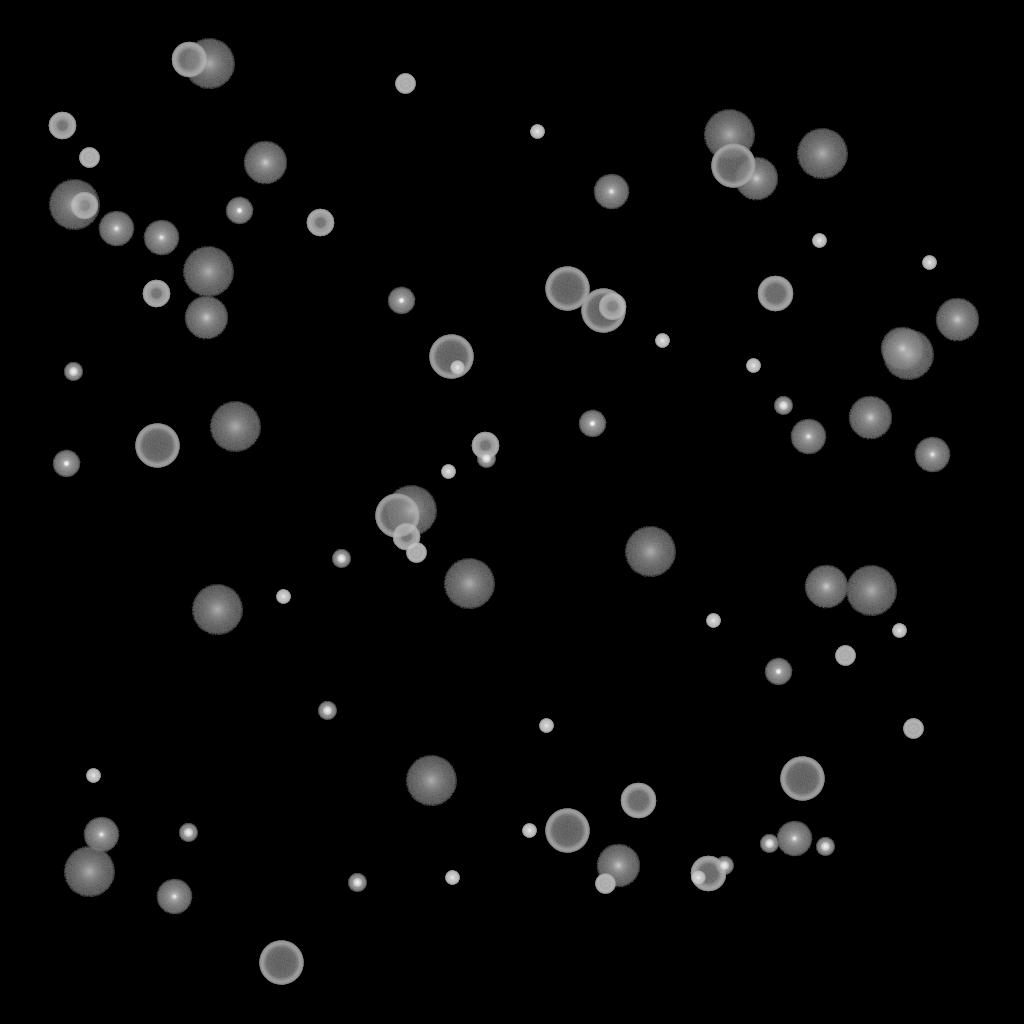depth:-10: (764, 658, 792, 686), (52, 450, 80, 478), (578, 410, 606, 438), (225, 197, 253, 225), (387, 287, 415, 315)
depth:-20: (774, 397, 792, 415), (760, 835, 778, 853), (179, 824, 197, 842), (64, 363, 82, 381), (816, 838, 834, 856), (715, 857, 733, 875), (318, 702, 336, 720), (348, 874, 366, 892), (332, 550, 350, 568), (477, 450, 495, 468)
depth:-30: (892, 624, 906, 638), (522, 824, 536, 838), (86, 769, 100, 783), (922, 256, 936, 270), (655, 334, 669, 348), (691, 871, 705, 885), (450, 361, 464, 375), (746, 359, 760, 373), (445, 871, 459, 885), (539, 719, 553, 733), (441, 465, 455, 479), (276, 590, 290, 604), (812, 234, 826, 248), (530, 125, 544, 139), (706, 614, 720, 628)
depth:-40: (79, 148, 99, 168), (395, 74, 415, 94), (903, 719, 923, 739), (406, 543, 426, 563), (595, 874, 615, 894), (835, 646, 855, 666)
depth:-50: (142, 280, 170, 308), (598, 293, 626, 321), (70, 192, 98, 220), (392, 523, 420, 551), (471, 432, 499, 460), (48, 112, 76, 140), (306, 209, 334, 237)
depth:-60: (690, 856, 726, 892), (757, 276, 793, 312), (171, 42, 207, 78), (620, 783, 656, 819)
depth:-70: (259, 941, 303, 985), (581, 289, 625, 333), (780, 757, 824, 801), (429, 335, 473, 379), (545, 267, 589, 311), (711, 144, 755, 188), (545, 809, 589, 853), (135, 424, 179, 468), (375, 494, 419, 538)
depth:0: (790, 419, 826, 455), (98, 211, 134, 247), (776, 821, 812, 857), (83, 817, 119, 853), (156, 879, 192, 915), (143, 220, 179, 256), (593, 174, 629, 210), (914, 437, 950, 473)
depth:10: (848, 396, 892, 440), (880, 327, 924, 371), (184, 296, 228, 340), (734, 157, 778, 201), (935, 298, 979, 342), (596, 844, 640, 888), (804, 565, 848, 609), (243, 141, 287, 185)
depth:20: (796, 129, 848, 179), (882, 330, 934, 380), (405, 756, 457, 806), (48, 180, 100, 230), (182, 247, 234, 297), (183, 39, 235, 89), (443, 559, 495, 609), (624, 527, 676, 577), (845, 566, 897, 616), (191, 585, 243, 635), (703, 110, 755, 160), (209, 402, 261, 452), (385, 486, 437, 536), (63, 847, 115, 897)
